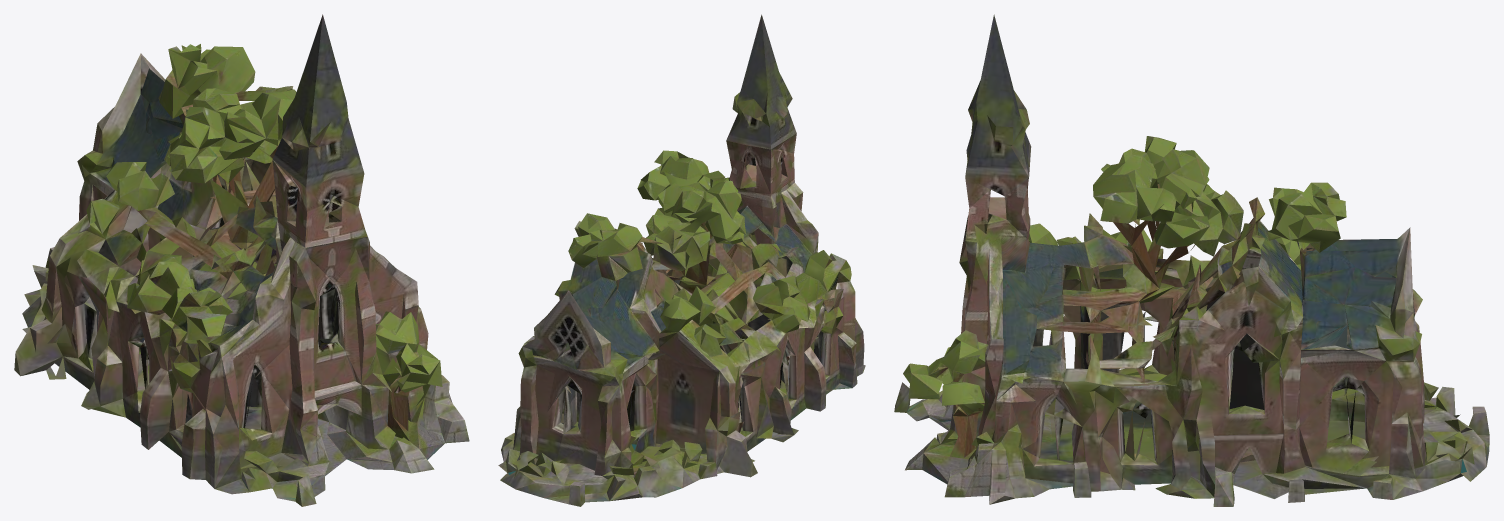
Rendered from cityChurch.glb.
The picture shows the model from 3 angles, left to right: view 1: azimuth 30°, elevation 25°; view 2: azimuth 150°, elevation 25°; view 3: azimuth 270°, elevation 25°; orthographic projection. The views are drawn at different scales.
Size of the model in its own units: 1.04 by 1.5 by 1.9.
1 material, 1 textured.
